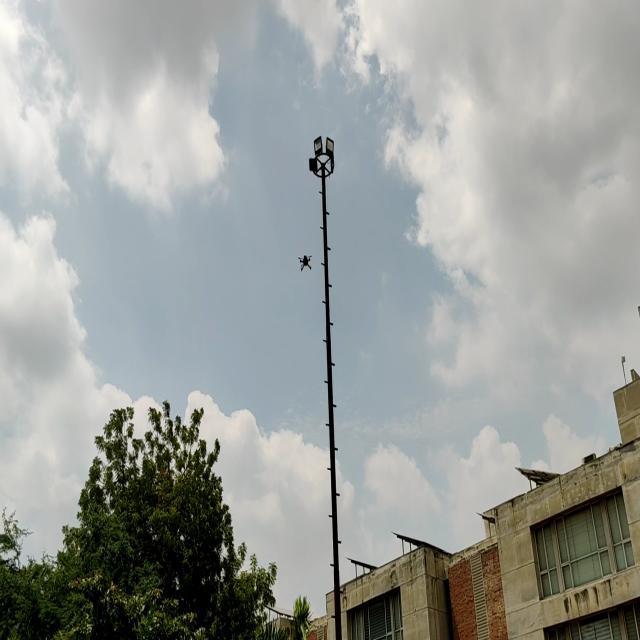drone: (295, 255, 317, 276)
